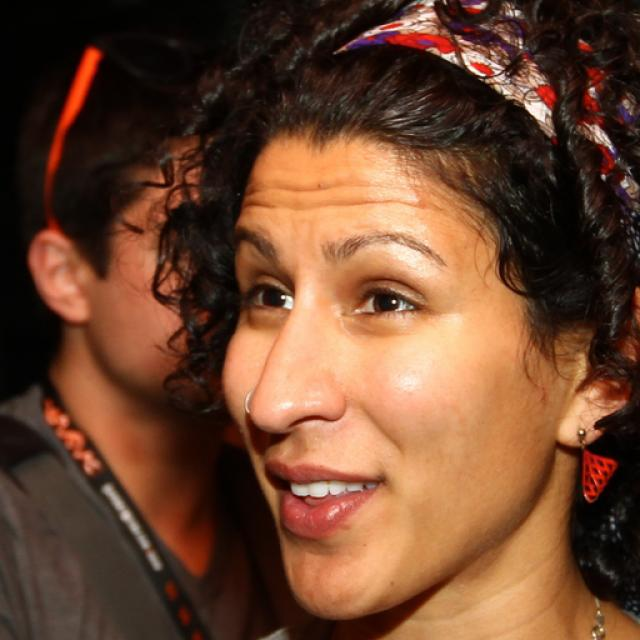Acne: (403, 187, 429, 213)
